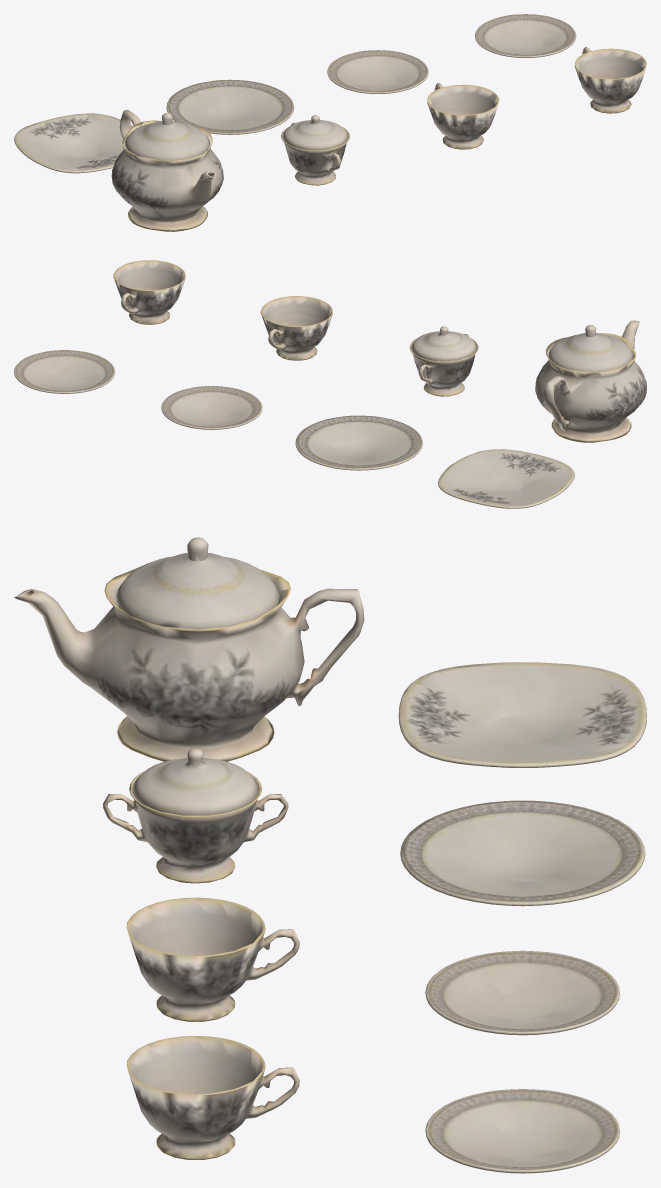
The model's file is teaset.glb.
3 renders of one model, top to bottom at view 1: azimuth 30°, elevation 25°; view 2: azimuth 150°, elevation 25°; view 3: azimuth 270°, elevation 25°, orthographic. The views are drawn at different scales.
Parts seen in each view (by area): view 1: tea_set_01_teapot_01, tea_set_01_plate_large_circular_03, tea_set_01_plate_large_square_01, tea_set_01_saucer_circular_03, tea_set_01_cup_small_02, tea_set_01_saucer_circular_04, tea_set_01_cup_small_01, tea_set_01_teapot_01_lid, tea_set_01_sugar_cup_01, tea_set_01_sugar_cup_01_lid; view 2: tea_set_01_teapot_01, tea_set_01_plate_large_square_01, tea_set_01_plate_large_circular_03, tea_set_01_cup_small_01, tea_set_01_cup_small_02, tea_set_01_saucer_circular_04, tea_set_01_saucer_circular_03, tea_set_01_teapot_01_lid, tea_set_01_sugar_cup_01, tea_set_01_sugar_cup_01_lid; view 3: tea_set_01_teapot_01, tea_set_01_plate_large_square_01, tea_set_01_plate_large_circular_03, tea_set_01_cup_small_01, tea_set_01_cup_small_02, tea_set_01_saucer_circular_03, tea_set_01_saucer_circular_04, tea_set_01_teapot_01_lid, tea_set_01_sugar_cup_01, tea_set_01_sugar_cup_01_lid.
Boxes of the visible parts, x1=… form: tea_set_01_teapot_01: x1=111, y1=109, x2=223, y2=231; tea_set_01_plate_large_circular_03: x1=166, y1=79, x2=294, y2=134; tea_set_01_plate_large_square_01: x1=14, y1=113, x2=133, y2=173; tea_set_01_saucer_circular_03: x1=475, y1=14, x2=576, y2=57; tea_set_01_cup_small_02: x1=574, y1=47, x2=646, y2=113; tea_set_01_saucer_circular_04: x1=327, y1=50, x2=428, y2=93; tea_set_01_cup_small_01: x1=427, y1=83, x2=499, y2=149; tea_set_01_teapot_01_lid: x1=125, y1=112, x2=209, y2=160; tea_set_01_sugar_cup_01: x1=281, y1=122, x2=349, y2=185; tea_set_01_sugar_cup_01_lid: x1=282, y1=115, x2=348, y2=150; tea_set_01_teapot_01: x1=535, y1=320, x2=646, y2=442; tea_set_01_plate_large_square_01: x1=438, y1=449, x2=574, y2=508; tea_set_01_plate_large_circular_03: x1=295, y1=415, x2=422, y2=470; tea_set_01_cup_small_01: x1=260, y1=296, x2=332, y2=360; tea_set_01_cup_small_02: x1=113, y1=260, x2=185, y2=324; tea_set_01_saucer_circular_04: x1=161, y1=386, x2=262, y2=429; tea_set_01_saucer_circular_03: x1=14, y1=350, x2=115, y2=393; tea_set_01_teapot_01_lid: x1=548, y1=325, x2=633, y2=371; tea_set_01_sugar_cup_01: x1=409, y1=334, x2=478, y2=396; tea_set_01_sugar_cup_01_lid: x1=411, y1=326, x2=477, y2=361; tea_set_01_teapot_01: x1=14, y1=557, x2=364, y2=761; tea_set_01_plate_large_square_01: x1=398, y1=662, x2=646, y2=767; tea_set_01_plate_large_circular_03: x1=400, y1=800, x2=645, y2=906; tea_set_01_cup_small_01: x1=126, y1=897, x2=299, y2=1021; tea_set_01_cup_small_02: x1=126, y1=1036, x2=299, y2=1159; tea_set_01_saucer_circular_03: x1=425, y1=1089, x2=619, y2=1173; tea_set_01_saucer_circular_04: x1=425, y1=950, x2=619, y2=1035; tea_set_01_teapot_01_lid: x1=116, y1=537, x2=279, y2=629; tea_set_01_sugar_cup_01: x1=103, y1=771, x2=288, y2=883; tea_set_01_sugar_cup_01_lid: x1=132, y1=748, x2=259, y2=815.
Bounding box in the file's own units: 0.9183 × 0.165 × 0.4838.
1 material, 1 textured.
